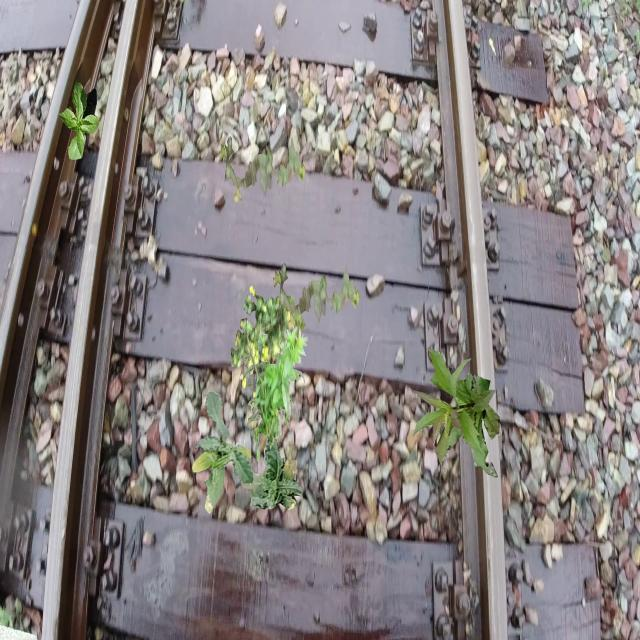Plant: (411, 348, 499, 478), (231, 285, 306, 425), (243, 319, 308, 462), (192, 390, 254, 514), (219, 136, 306, 204), (273, 262, 360, 330), (240, 427, 304, 510), (58, 80, 100, 160)
